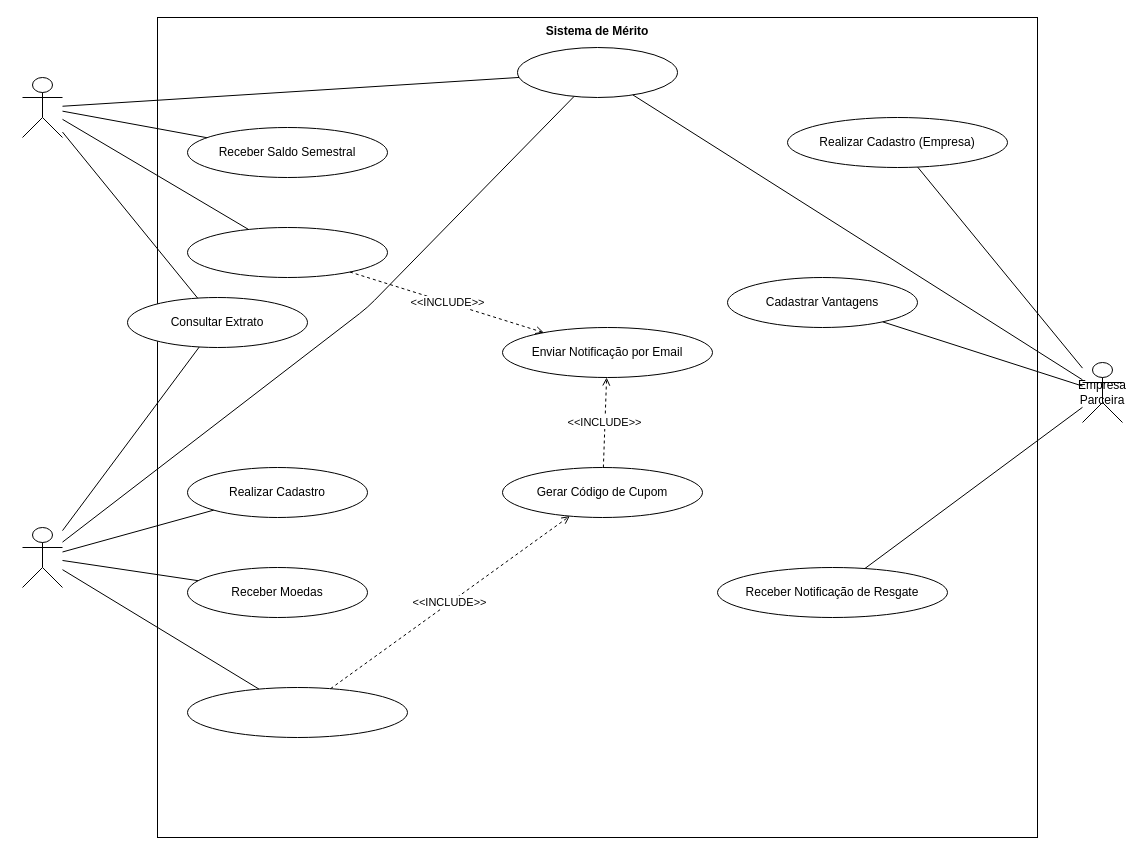
Some shapes in this 1144 by 855 pixel diagram are drawn without their labels. Each missing label, with the box of its shape:
Aluno: (22, 526, 62, 588)
Enviar Moedas ao Aluno: (186, 226, 388, 278)
Fazer Login: (516, 46, 678, 98)
Professor: (22, 76, 62, 138)
Trocar Moedas por Vantagens: (186, 686, 408, 738)
